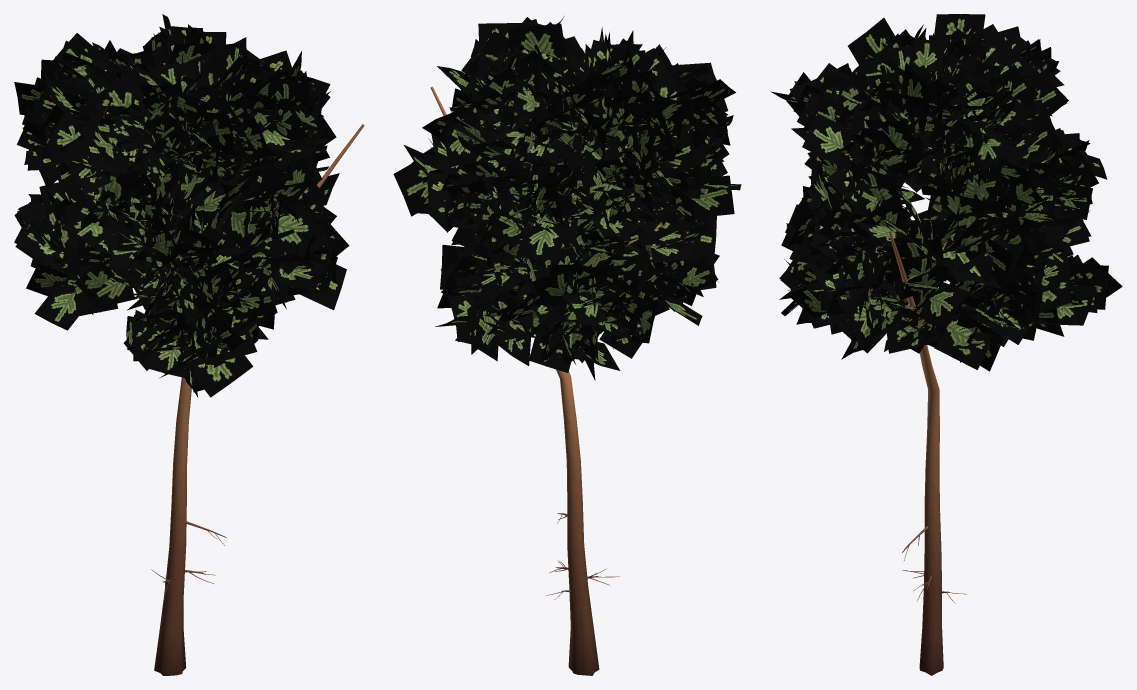
The model's file is borovice_stara.glb.
3 renders of one model, left to right at view 1: azimuth 30°, elevation 25°; view 2: azimuth 150°, elevation 25°; view 3: azimuth 270°, elevation 25°, orthographic.
Parts seen in each view (by area): view 1: borovice_stara; view 2: borovice_stara; view 3: borovice_stara.
Boxes of the visible parts, bbox=[...] form: borovice_stara: bbox=[14, 14, 364, 675]; borovice_stara: bbox=[393, 16, 741, 675]; borovice_stara: bbox=[770, 14, 1122, 675].
Bounding box in the file's own units: 11.15 × 21.6 × 11.07.
2 materials, 2 textured.
